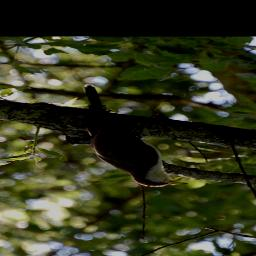Cuckoo: (77, 83, 189, 188)
